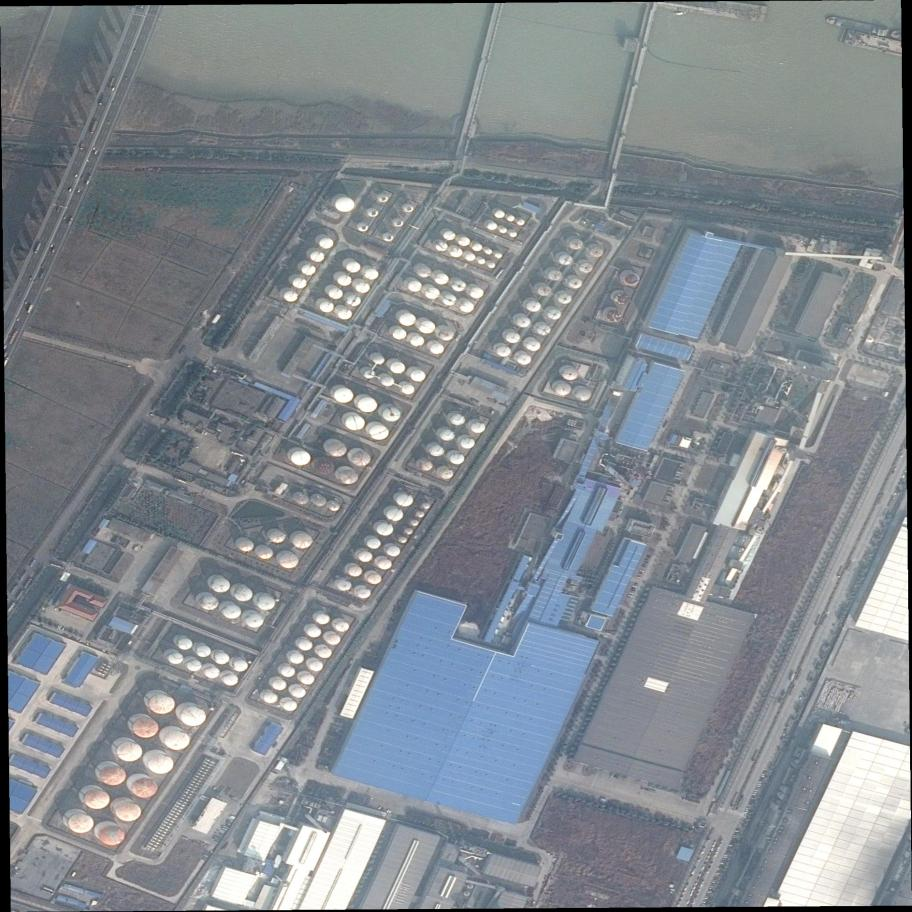large-vehicle: (8, 330, 18, 344), (90, 120, 98, 134), (34, 242, 42, 254), (108, 77, 115, 89), (27, 304, 34, 314)
ship: (825, 15, 890, 38)
small-vehicle: (671, 11, 686, 17)
storage-tank: (132, 718, 159, 738), (149, 694, 175, 714), (68, 813, 94, 833), (164, 730, 189, 750), (101, 766, 126, 786), (117, 742, 143, 761), (99, 827, 125, 846), (133, 779, 158, 798), (181, 707, 206, 726), (149, 755, 174, 774), (116, 803, 141, 822), (85, 790, 110, 809), (293, 533, 313, 549), (279, 553, 299, 569), (334, 388, 354, 404), (291, 450, 311, 466), (346, 415, 365, 431), (327, 441, 346, 457), (314, 459, 334, 474), (336, 197, 354, 213), (358, 397, 377, 412), (370, 425, 389, 440), (351, 452, 371, 466), (212, 578, 230, 593), (339, 470, 358, 484), (245, 614, 264, 628), (223, 605, 242, 619), (383, 407, 401, 421), (258, 597, 276, 611), (235, 587, 253, 601), (201, 596, 219, 610), (386, 508, 404, 521), (377, 523, 394, 536), (397, 494, 414, 507), (562, 367, 579, 380), (399, 313, 416, 326), (623, 273, 639, 286), (576, 388, 592, 401), (554, 383, 571, 395), (420, 321, 435, 334), (270, 531, 286, 543), (238, 540, 254, 552), (410, 370, 426, 382), (615, 293, 631, 305), (257, 548, 274, 559), (307, 626, 322, 638), (177, 638, 192, 650), (283, 700, 298, 712), (233, 660, 248, 672), (390, 362, 405, 374), (450, 414, 465, 426), (440, 429, 455, 441), (536, 324, 551, 336), (319, 301, 334, 313), (346, 295, 361, 307), (329, 288, 344, 300), (410, 335, 425, 347), (469, 287, 484, 299), (434, 273, 449, 285), (425, 288, 440, 300), (439, 329, 454, 341), (168, 653, 184, 664), (214, 653, 230, 664), (607, 310, 623, 321), (224, 674, 238, 686), (590, 246, 604, 258), (568, 277, 582, 289), (338, 274, 352, 286), (452, 280, 466, 292), (431, 343, 445, 355), (358, 551, 373, 562), (298, 640, 313, 651), (356, 588, 371, 599), (187, 660, 202, 671), (196, 646, 211, 657), (281, 666, 296, 677), (263, 692, 278, 703), (450, 453, 465, 464), (496, 346, 511, 357), (471, 422, 486, 433), (460, 438, 475, 449), (430, 445, 445, 456), (547, 308, 562, 319), (557, 293, 572, 304), (537, 285, 552, 296), (364, 269, 379, 280), (346, 262, 361, 273), (319, 238, 334, 249), (310, 251, 325, 262), (367, 538, 381, 549), (387, 546, 401, 557), (348, 566, 362, 577), (338, 580, 352, 591), (295, 493, 309, 504), (318, 648, 332, 659), (290, 653, 304, 664), (205, 667, 219, 678), (301, 674, 315, 685), (273, 679, 287, 690), (284, 291, 298, 302), (526, 340, 540, 351), (506, 332, 520, 343), (518, 354, 532, 365), (293, 278, 307, 289), (440, 468, 454, 479), (527, 301, 541, 312), (569, 239, 583, 250), (579, 262, 593, 273), (548, 270, 562, 281), (338, 309, 352, 320), (356, 282, 370, 293), (302, 265, 316, 276), (443, 295, 457, 306), (408, 281, 422, 292), (326, 635, 341, 645), (516, 317, 531, 327), (378, 559, 391, 570), (317, 614, 330, 625), (381, 376, 394, 387), (559, 255, 572, 266), (393, 329, 406, 340), (368, 574, 382, 584), (313, 496, 327, 506), (309, 661, 323, 671), (292, 688, 306, 698), (419, 461, 433, 471), (460, 302, 474, 312), (419, 267, 431, 278), (336, 622, 349, 632), (450, 248, 463, 258), (443, 231, 456, 241), (435, 242, 448, 252), (367, 208, 379, 218), (402, 385, 415, 394), (458, 237, 471, 246), (364, 369, 375, 379), (373, 356, 385, 365), (392, 218, 404, 227), (377, 194, 389, 203), (403, 204, 414, 213), (358, 223, 369, 232), (382, 233, 393, 242), (472, 243, 483, 252), (494, 210, 505, 218), (487, 222, 498, 230), (465, 253, 476, 261), (330, 503, 340, 511), (404, 528, 414, 535), (398, 536, 407, 543), (416, 511, 425, 518), (422, 502, 431, 509), (411, 519, 419, 526), (507, 215, 515, 222), (510, 231, 518, 238), (500, 227, 508, 234), (495, 252, 503, 259), (517, 220, 525, 226), (478, 259, 486, 265), (489, 263, 496, 269), (485, 249, 492, 255), (467, 884, 474, 889), (759, 406, 765, 411), (464, 891, 470, 896)
